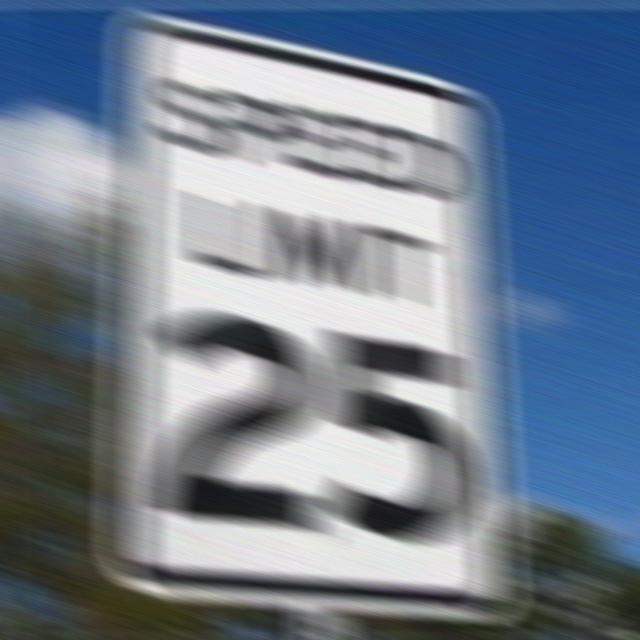speedLimit25: (106, 13, 518, 621)
